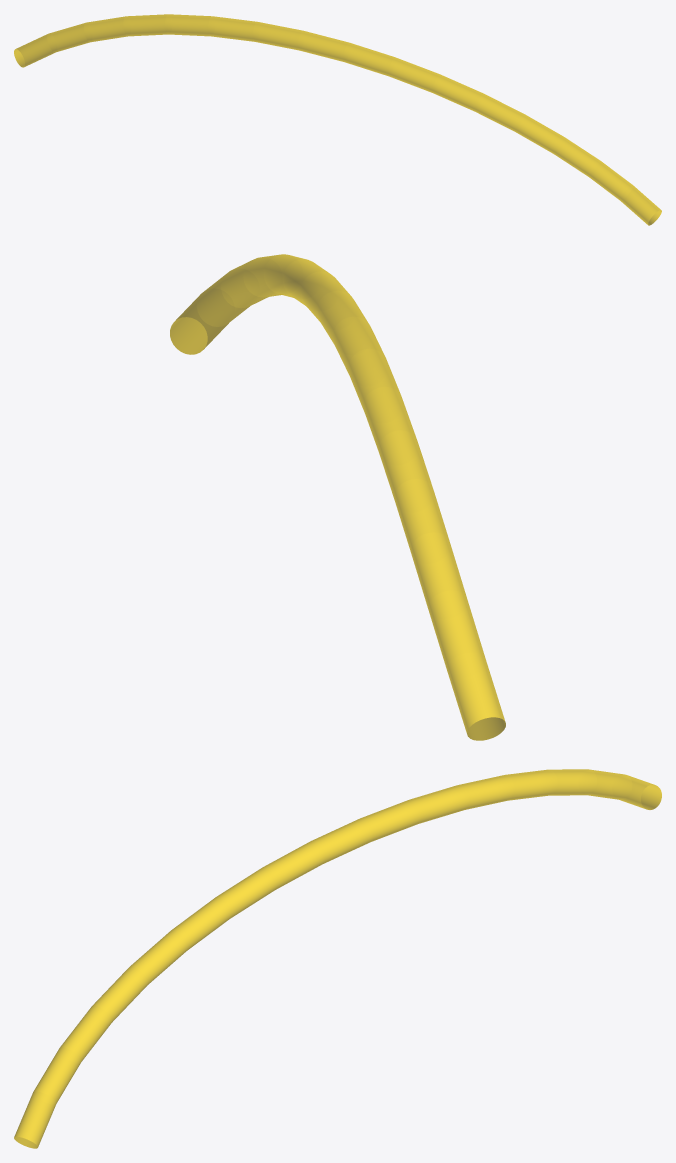
File: Event_402970704_track_43.fbx
3 renders of one model, top to bottom at view 1: azimuth 30°, elevation 25°; view 2: azimuth 150°, elevation 25°; view 3: azimuth 270°, elevation 25°, orthographic. The views are drawn at different scales.
Visible parts, largest first — view 1: Model; view 2: Model; view 3: Model.
Boxes of the visible parts, x1,y1,x2,y2 form: Model: (14,14,661,225); Model: (170,254,505,740); Model: (14,769,661,1148).
Size of the model in its own units: 0.9247 by 0.3309 by 0.9945.
